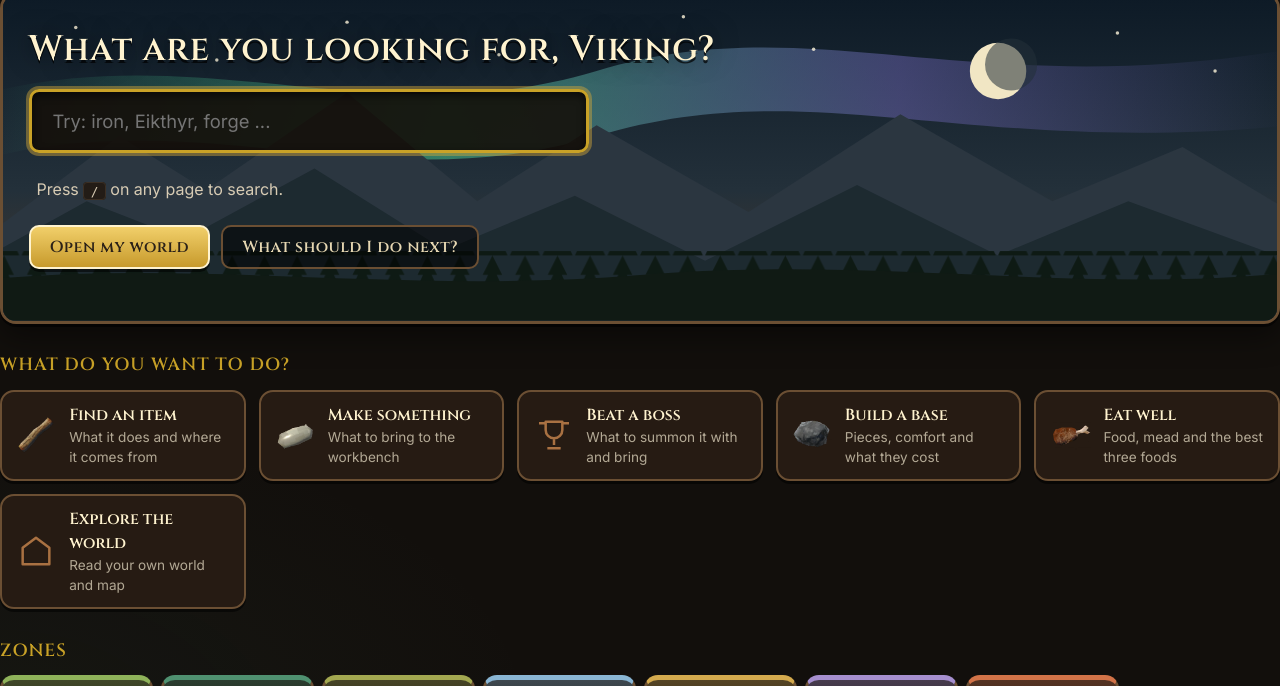
landing search keyboard › does nothing on Enter when there are no results
In the search field named "Search": point(309, 121) [29,89,589,153], type "zzzqqq"
Then press Enter
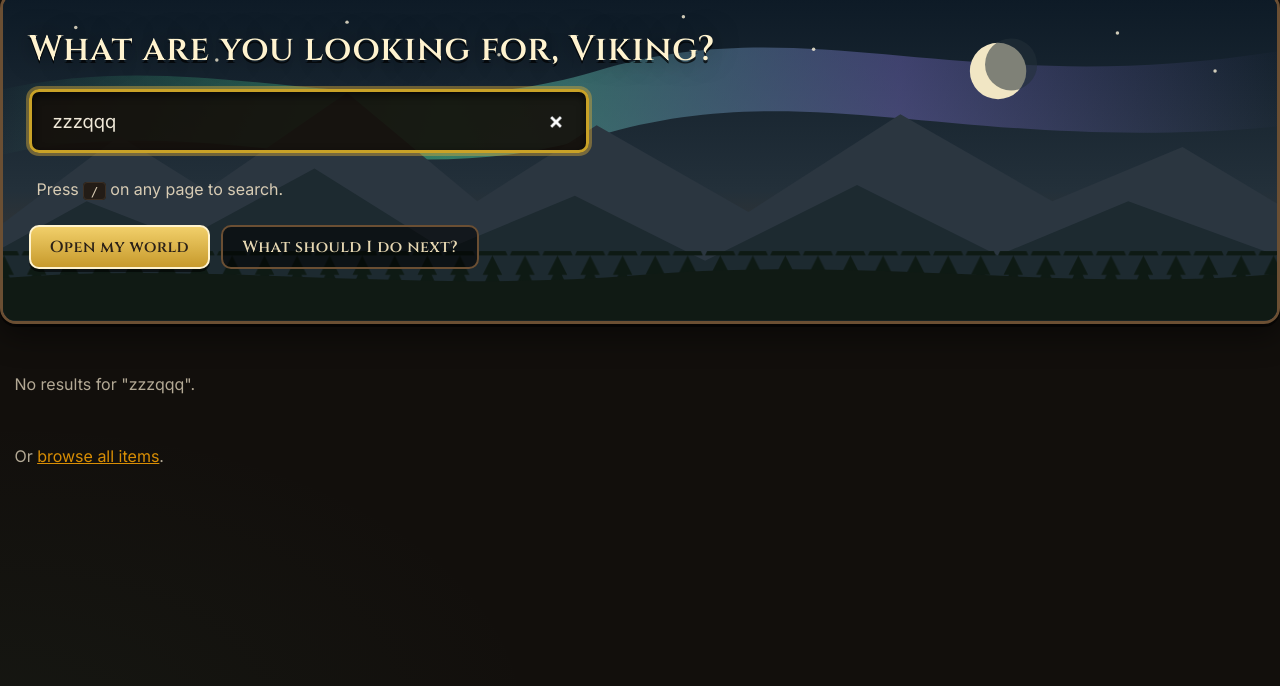
Now the text "No results for \"zzzqqq\"." is shown, box [14,374,195,394]
